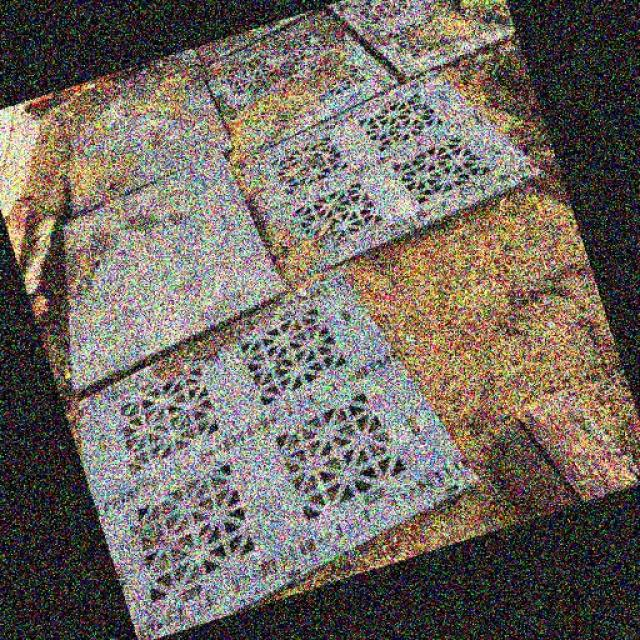non-igps: (4, 261, 494, 640), (0, 144, 294, 407), (227, 64, 550, 280), (197, 4, 402, 172)
